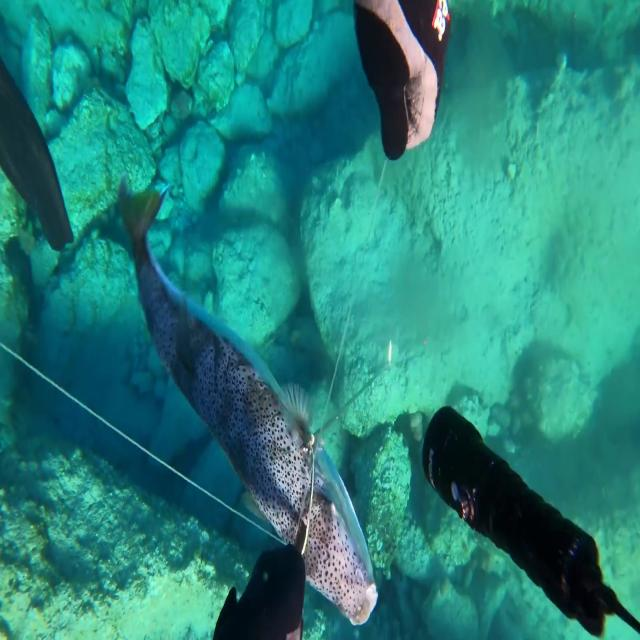Balon Baligi: (116, 182, 378, 626)
